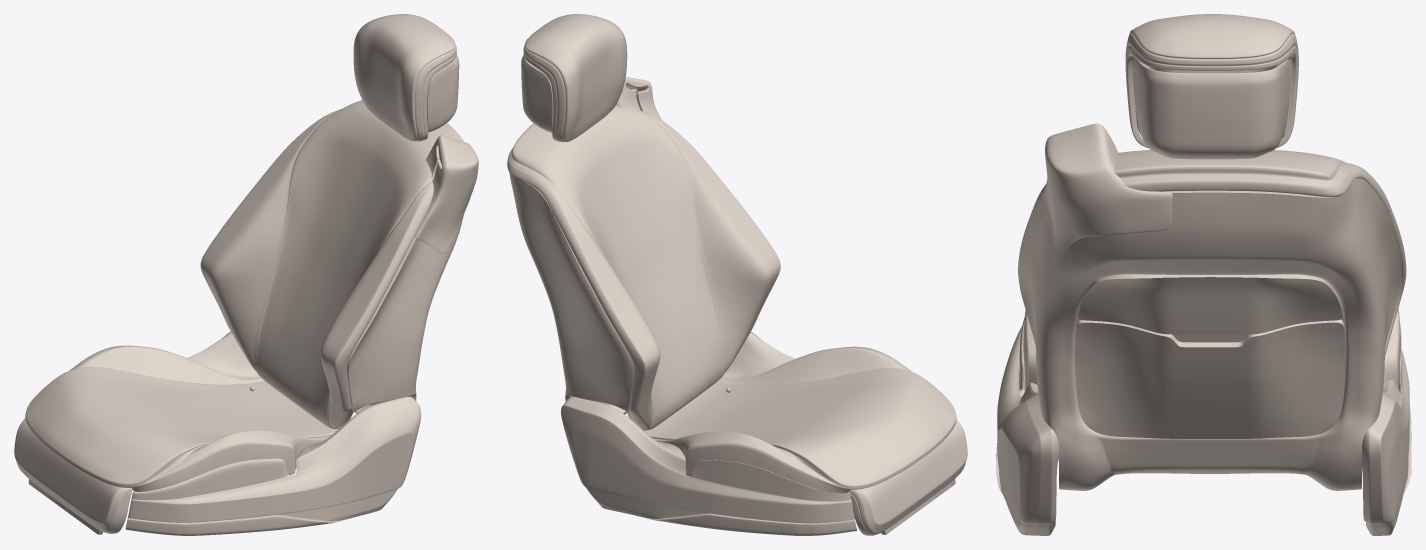
Rendered from Frontsitz_FS_25.fbx.
3 views of the same model, side by side, from view 1: azimuth 30°, elevation 25°; view 2: azimuth 150°, elevation 25°; view 3: azimuth 270°, elevation 25° (orthographic). The views are drawn at different scales.
Parts seen in each view (by area): view 1: Frontsitze.001; view 2: Frontsitze.001; view 3: Frontsitze.001.
Boxes of the visible parts, bbox=[...] form: Frontsitze.001: bbox=[14, 14, 478, 535]; Frontsitze.001: bbox=[507, 14, 967, 535]; Frontsitze.001: bbox=[996, 14, 1411, 535].
Size of the model in its own units: 93.45 by 94.64 by 61.51.
